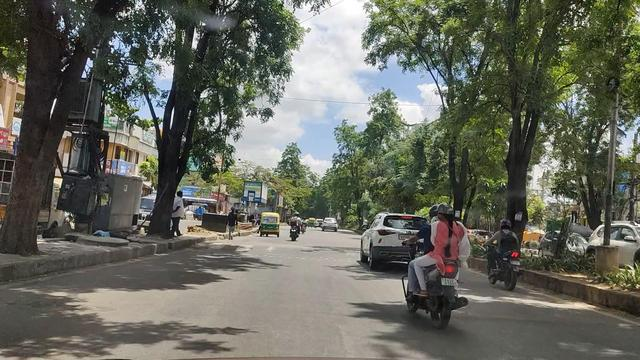LMV: (412, 201, 473, 332), (360, 217, 434, 275)
SpeedBump: (211, 241, 354, 256)
